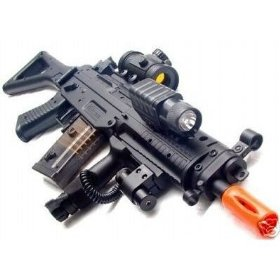rifle: (9, 44, 278, 273)
